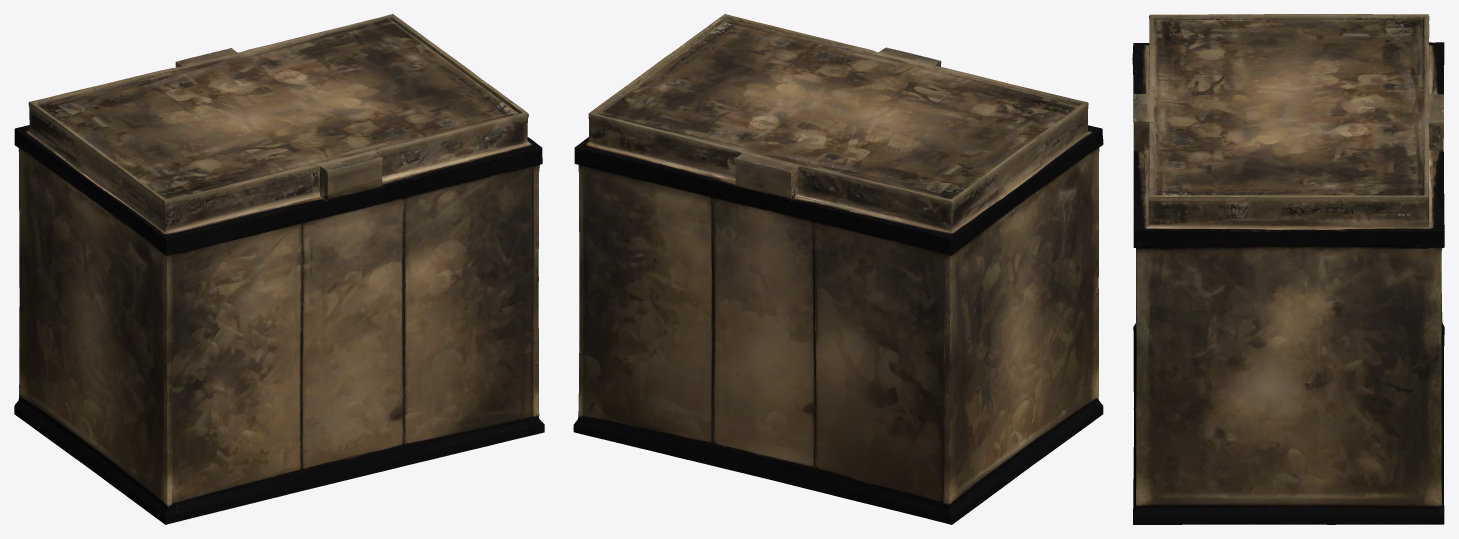
Rendered from skullwall.glb.
The picture shows the model from 3 angles, left to right: view 1: azimuth 30°, elevation 25°; view 2: azimuth 150°, elevation 25°; view 3: azimuth 270°, elevation 25°; orthographic projection. The views are drawn at different scales.
Visible parts, largest first — view 1: mesh; view 2: mesh; view 3: mesh.
Boxes of the visible parts, x1,y1,x2,y2 form: mesh: [14, 14, 544, 524]; mesh: [573, 14, 1103, 524]; mesh: [1132, 14, 1444, 524].
Size of the model in its own units: 1 by 0.7981 by 0.694.
Materials: 1 (1 with a texture image).
